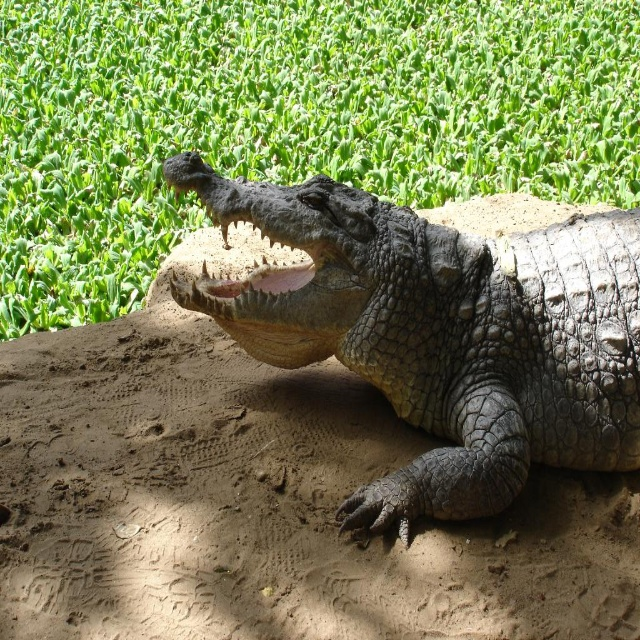Crocodile: (162, 153, 640, 543)
